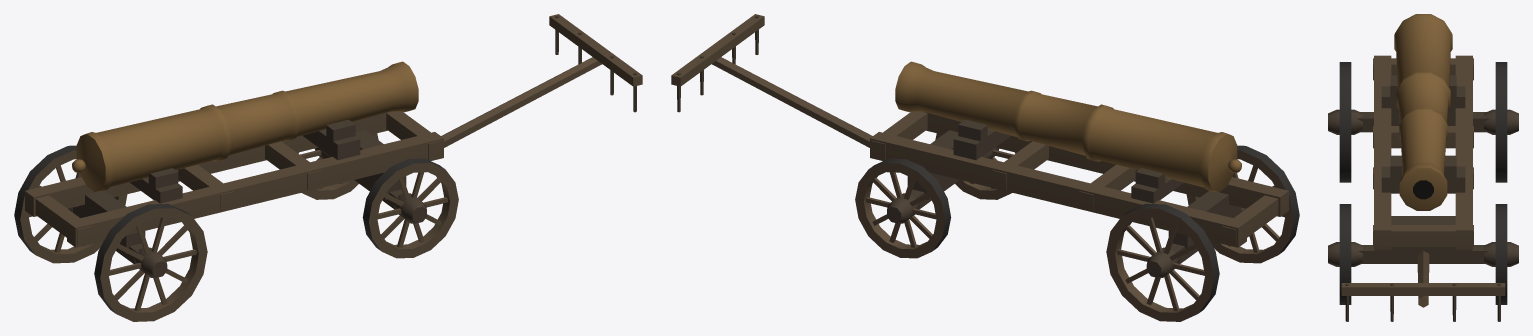
File: actor-cannon.glb
3 views of the same model, side by side, from view 1: azimuth 30°, elevation 25°; view 2: azimuth 150°, elevation 25°; view 3: azimuth 270°, elevation 25° (orthographic). The views are drawn at different scales.
Visible parts, largest first — view 1: body, wheel_br, wheel_fr, wheel_bl, wheel_fl; view 2: body, wheel_bl, wheel_fl, wheel_br, wheel_fr; view 3: body, wheel_bl, wheel_br, wheel_fl, wheel_fr.
Part boxes in pixels (<box>): body: <box>25,14,642,263</box>; wheel_br: <box>94,203,207,321</box>; wheel_fr: <box>362,158,458,258</box>; wheel_bl: <box>14,145,127,263</box>; wheel_fl: <box>297,133,378,199</box>; body: <box>671,14,1288,263</box>; wheel_bl: <box>1106,203,1219,321</box>; wheel_fl: <box>855,158,951,258</box>; wheel_br: <box>1186,145,1299,263</box>; wheel_fr: <box>935,133,1016,199</box>; body: <box>1341,14,1505,321</box>; wheel_bl: <box>1484,62,1518,182</box>; wheel_br: <box>1328,62,1362,182</box>; wheel_fl: <box>1484,204,1518,304</box>; wheel_fr: <box>1328,204,1362,304</box>.
Bounding box in the file's own units: 6.42 × 1.75 × 1.96.
